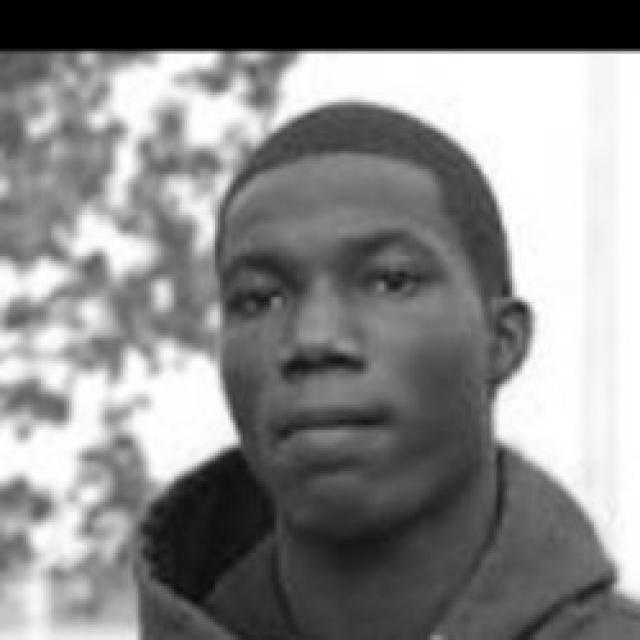real: (218, 100, 511, 556), (229, 255, 450, 330)
